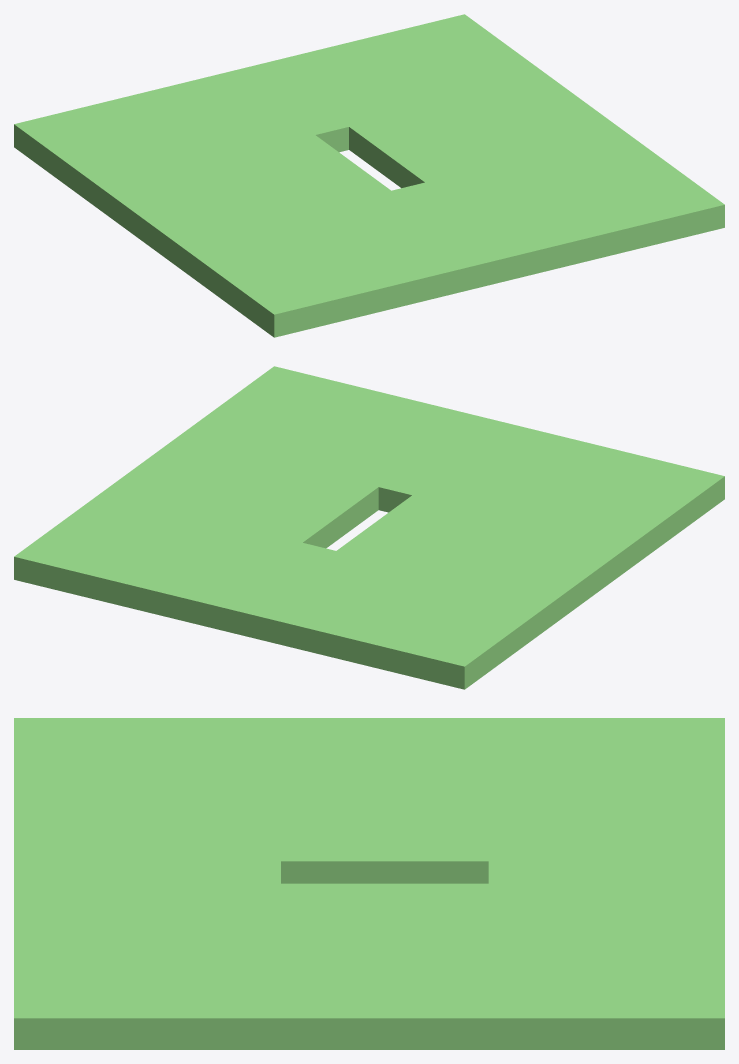
Rendered from holeFloor.fbx.
3 views of the same model, one above another, from view 1: azimuth 30°, elevation 25°; view 2: azimuth 150°, elevation 25°; view 3: azimuth 270°, elevation 25° (orthographic). The views are drawn at different scales.
Parts seen in each view (by area): view 1: FloorPieceNoHole; view 2: FloorPieceNoHole; view 3: FloorPieceNoHole.
Boxes of the visible parts, left/top/right/bottom form: FloorPieceNoHole: left=14, top=14, right=724, bottom=337; FloorPieceNoHole: left=14, top=366, right=724, bottom=689; FloorPieceNoHole: left=14, top=718, right=724, bottom=1049.
Size of the model in its own units: 766 by 37.46 by 766.
